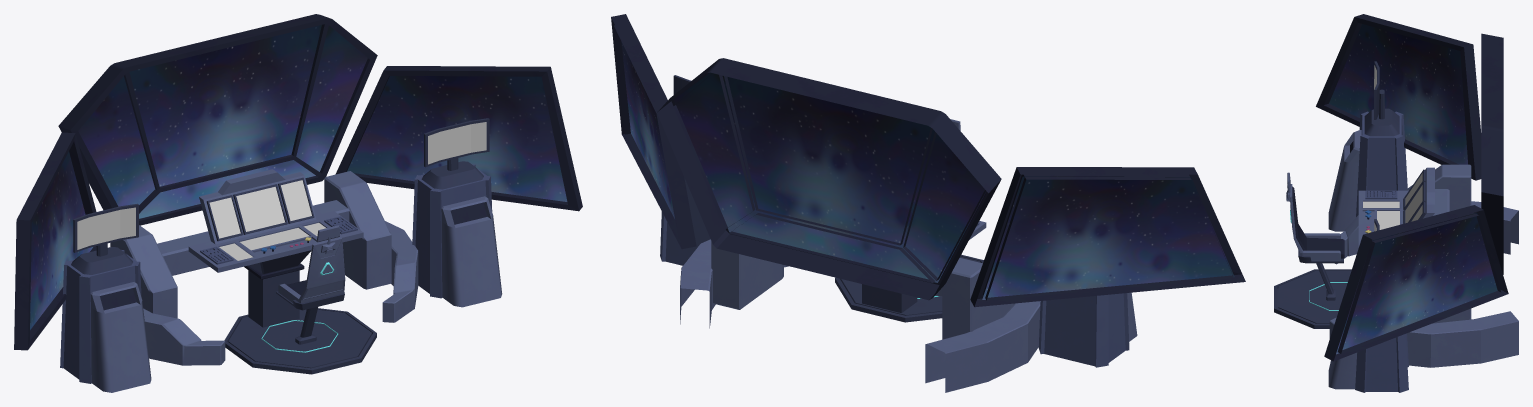
File: cockpit.fbx
3 views of the same model, side by side, from view 1: azimuth 30°, elevation 25°; view 2: azimuth 150°, elevation 25°; view 3: azimuth 270°, elevation 25° (orthographic). The views are drawn at different scales.
Visible parts, largest first — view 1: cockpit_center:cockpit:pCube62, pCube121, monitor2:monitor2:pCube4, monitor2:monitor2:pCube49, cockpit_center:cockpit:pCube61, polySurface503, pCube119, pCube118, pCube117, polySurface487, polySurface470, polySurface473 (+11 smaller); view 2: cockpit_center:cockpit:pCube62, pCube118, cockpit_center:cockpit:pCube61, pCube117, polySurface481, monitor2:monitor2:pCube4, pCube119, polySurface487, pCube121, polySurface488, polySurface503, monitor2:monitor2:pCube49 (+2 smaller); view 3: pCube121, pCube118, monitor2:monitor2:pCube4, pCube119, polySurface480, pCube117, cockpit_center:cockpit:pCube61, monitor2:monitor2:pCube49, polySurface503, polySurface470, polySurface488, polySurface481 (+9 smaller).
Boxes of the visible parts, box(x1,y1,x2,y2) form: cockpit_center:cockpit:pCube62: box(78, 25, 367, 218); pCube121: box(347, 76, 567, 201); monitor2:monitor2:pCube4: box(60, 203, 151, 392); monitor2:monitor2:pCube49: box(412, 118, 502, 307); cockpit_center:cockpit:pCube61: box(58, 14, 377, 225); polySurface503: box(224, 308, 376, 374); pCube119: box(335, 66, 582, 211); pCube118: box(30, 151, 92, 329); pCube117: box(14, 132, 96, 350); polySurface487: box(324, 171, 391, 289); polySurface470: box(188, 169, 363, 272); polySurface473: box(244, 250, 311, 327); cockpit_center:cockpit:pCube62: box(673, 72, 986, 282); pCube118: box(982, 176, 1234, 299); cockpit_center:cockpit:pCube61: box(657, 58, 1001, 300); pCube117: box(970, 167, 1245, 307); polySurface481: box(925, 301, 1040, 392); monitor2:monitor2:pCube4: box(1038, 292, 1137, 367); pCube119: box(611, 14, 696, 249); polySurface487: box(711, 241, 783, 309); pCube121: box(621, 42, 674, 218); polySurface488: box(942, 258, 1014, 339); polySurface503: box(835, 254, 983, 322); monitor2:monitor2:pCube49: box(660, 75, 710, 265); pCube121: box(1336, 213, 1497, 354); pCube118: box(1329, 24, 1467, 164); monitor2:monitor2:pCube4: box(1328, 61, 1407, 231); pCube119: box(1324, 205, 1508, 361); polySurface480: box(1329, 311, 1518, 367); pCube117: box(1316, 14, 1481, 180); cockpit_center:cockpit:pCube61: box(1481, 33, 1503, 274); monitor2:monitor2:pCube49: box(1328, 219, 1408, 392); polySurface503: box(1274, 269, 1351, 328); polySurface470: box(1358, 167, 1434, 247); polySurface488: box(1405, 164, 1471, 211); polySurface481: box(1335, 201, 1518, 264).
Size of the model in its own units: 112 by 45.08 by 44.8.
